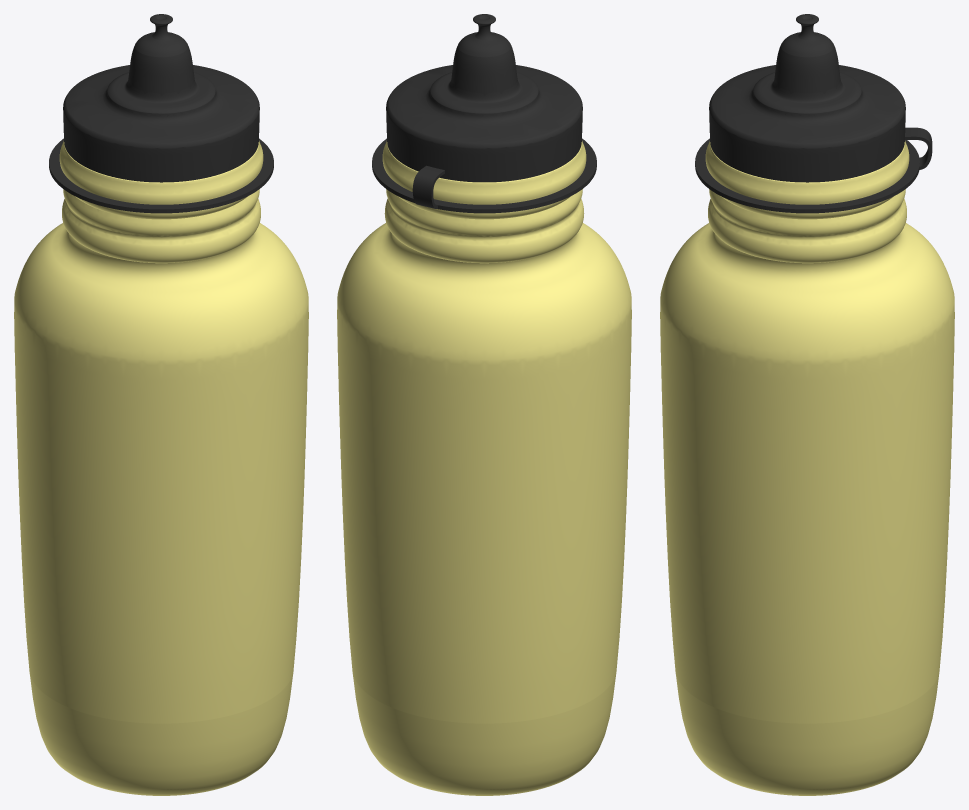
File: 마요네즈 완성.FBX
The picture shows the model from 3 angles, left to right: view 1: azimuth 30°, elevation 25°; view 2: azimuth 150°, elevation 25°; view 3: azimuth 270°, elevation 25°; orthographic projection.
Parts seen in each view (by area): view 1: Water_Bottle; view 2: Water_Bottle; view 3: Water_Bottle.
Boxes of the visible parts, <box> form: Water_Bottle: <box>14,14,308,795</box>; Water_Bottle: <box>337,14,631,795</box>; Water_Bottle: <box>660,14,954,795</box>.
Bounding box in the file's own units: 2.68 × 7.43 × 2.68.
